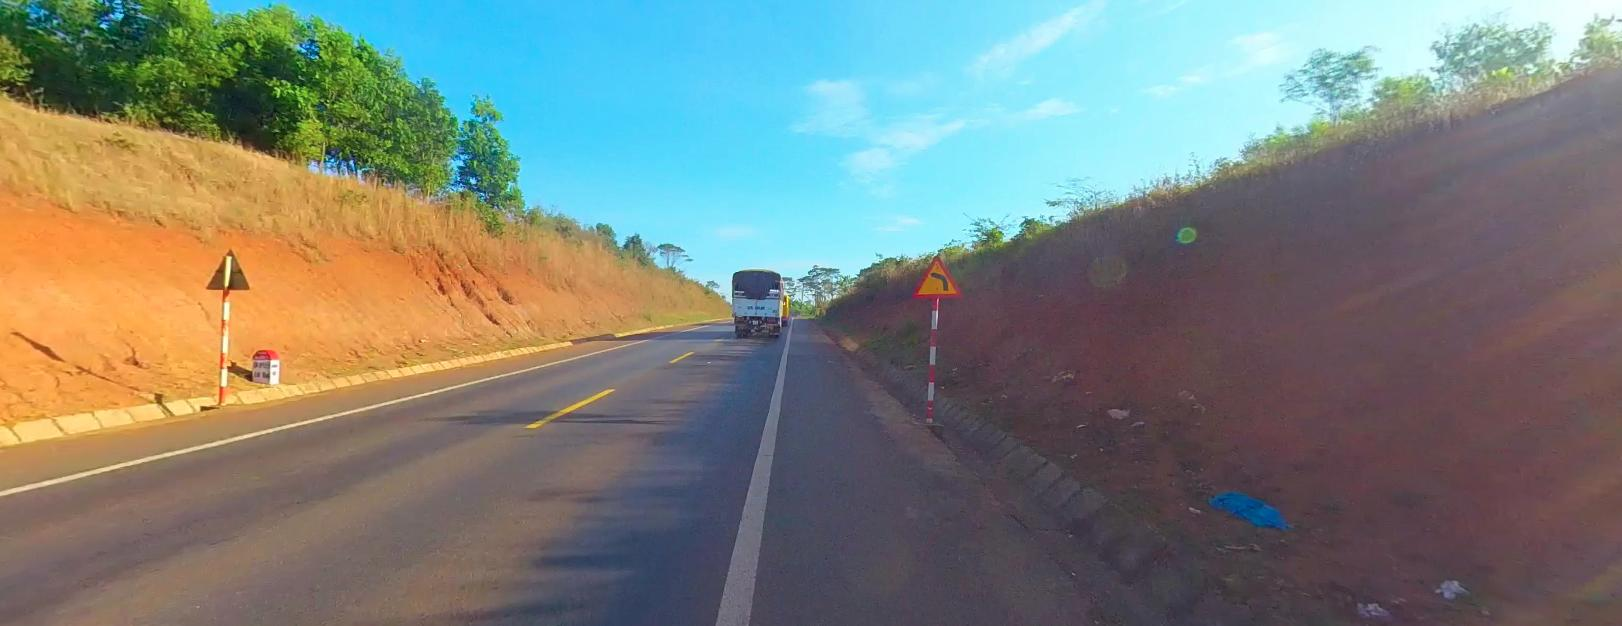Nguy hiem: (906, 250, 965, 303)
